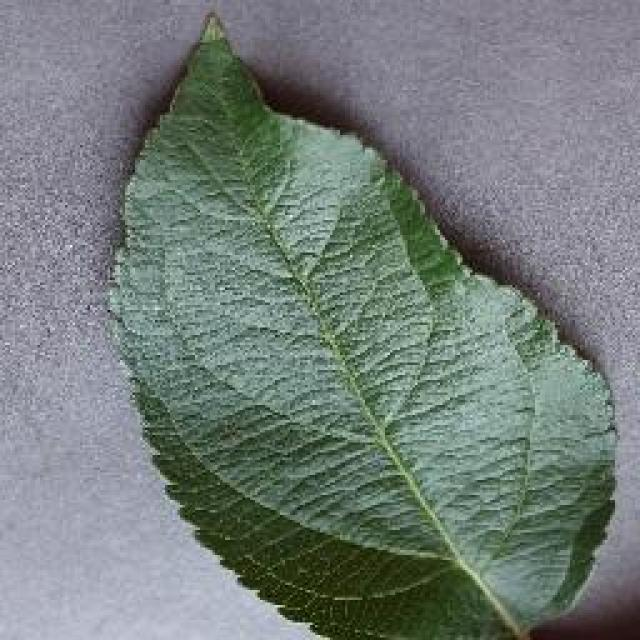apple healthy: (102, 8, 620, 638)
